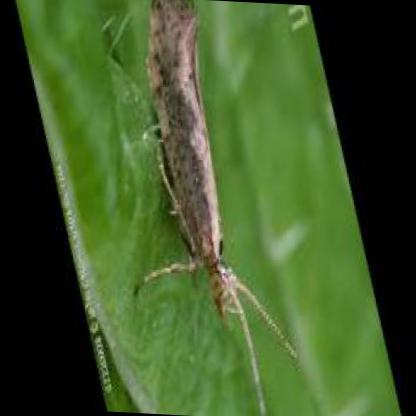plutella: (128, 4, 296, 415)
